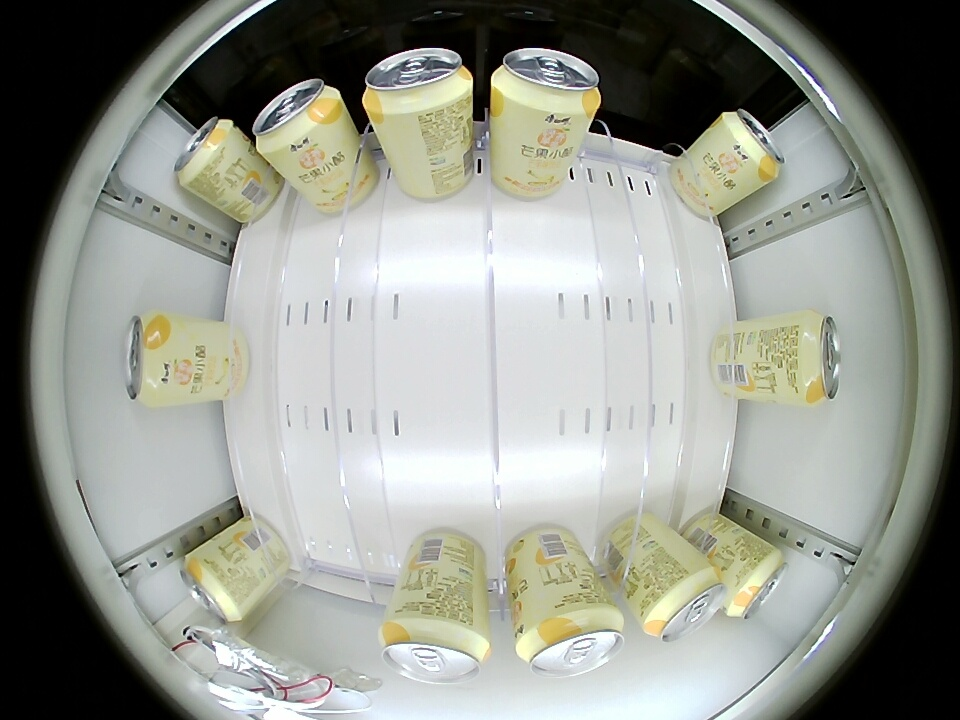mangguoxiaolao: (516, 599, 627, 678), (380, 608, 490, 684), (491, 48, 603, 122), (362, 48, 474, 121), (253, 78, 345, 160), (641, 562, 725, 642), (786, 310, 842, 405), (124, 314, 180, 406), (719, 109, 786, 184), (180, 547, 246, 623), (174, 116, 239, 192), (726, 543, 788, 620)
